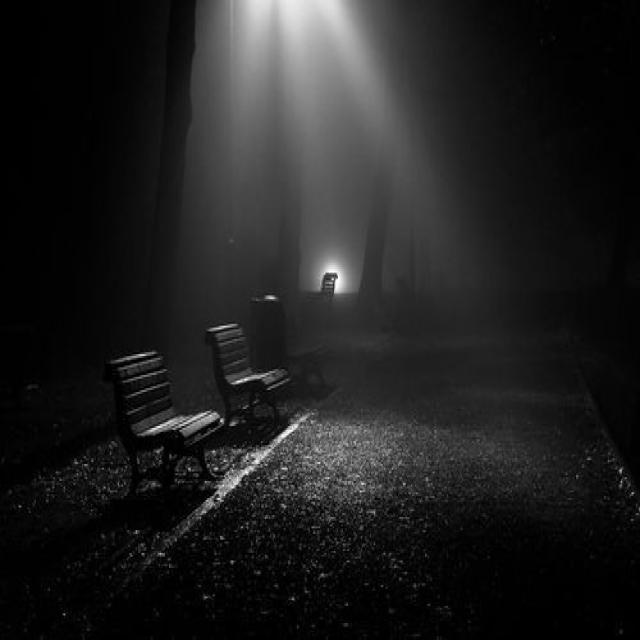chair: (92, 335, 214, 517), (249, 282, 322, 424), (212, 318, 286, 439), (315, 255, 345, 320)
